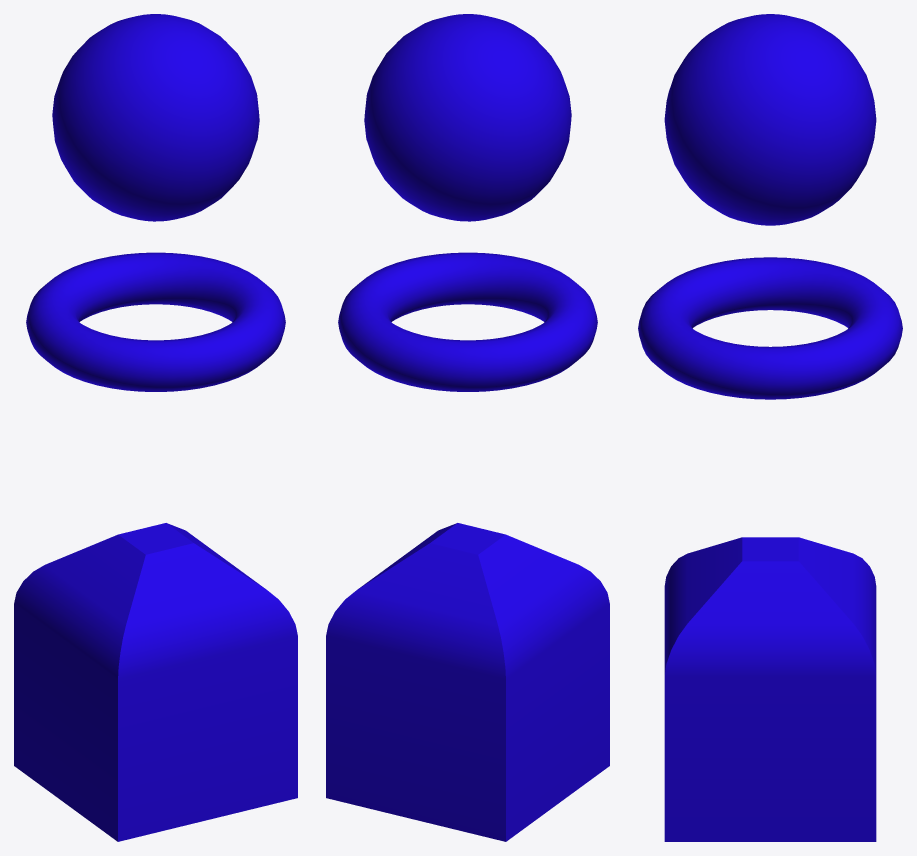
3 views of the same model, side by side, from view 1: azimuth 30°, elevation 25°; view 2: azimuth 150°, elevation 25°; view 3: azimuth 270°, elevation 25° (orthographic).
Visible parts, largest first — view 1: Cube.001; view 2: Cube.001; view 3: Cube.001.
Boxes of the visible parts, x1=… form: Cube.001: x1=14, y1=14, x2=297, y2=841; Cube.001: x1=326, y1=14, x2=609, y2=841; Cube.001: x1=638, y1=14, x2=902, y2=841.
Bounding box in the file's own units: 2.5 × 8.05 × 2.5.
